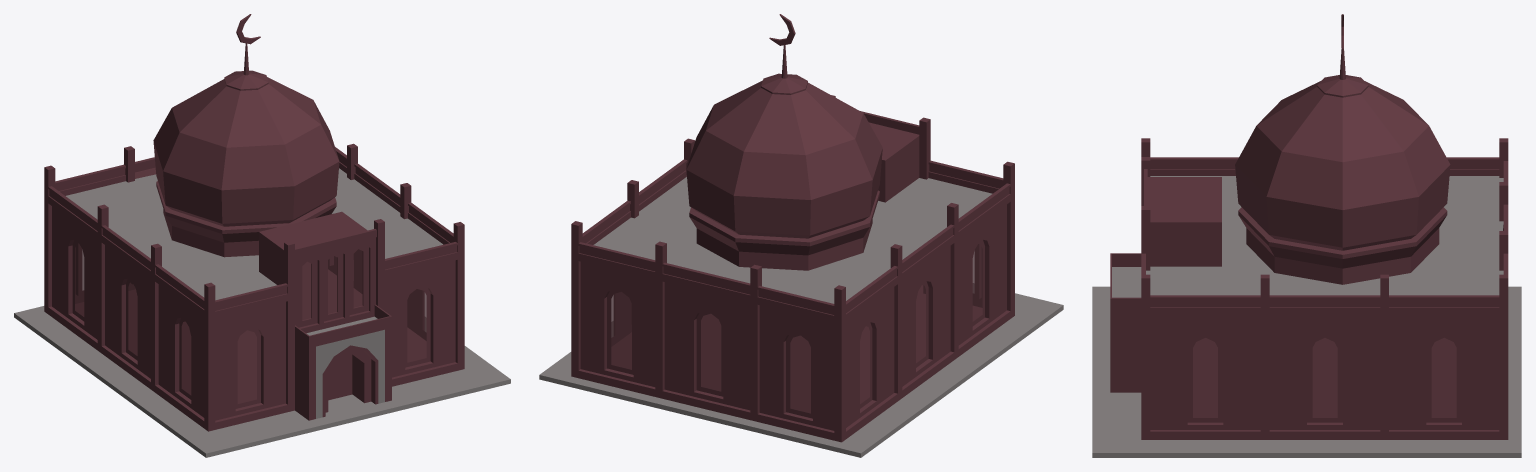
File: mosque.fbx
The picture shows the model from 3 angles, left to right: view 1: azimuth 30°, elevation 25°; view 2: azimuth 150°, elevation 25°; view 3: azimuth 270°, elevation 25°; orthographic projection. The views are drawn at different scales.
Parts seen in each view (by area): view 1: mosque; view 2: mosque; view 3: mosque.
Boxes of the visible parts, x1,y1,x2,y2 form: mosque: [14, 14, 510, 457]; mosque: [539, 14, 1063, 457]; mosque: [1092, 14, 1521, 457].
Size of the model in its own units: 22 by 22.33 by 24.
